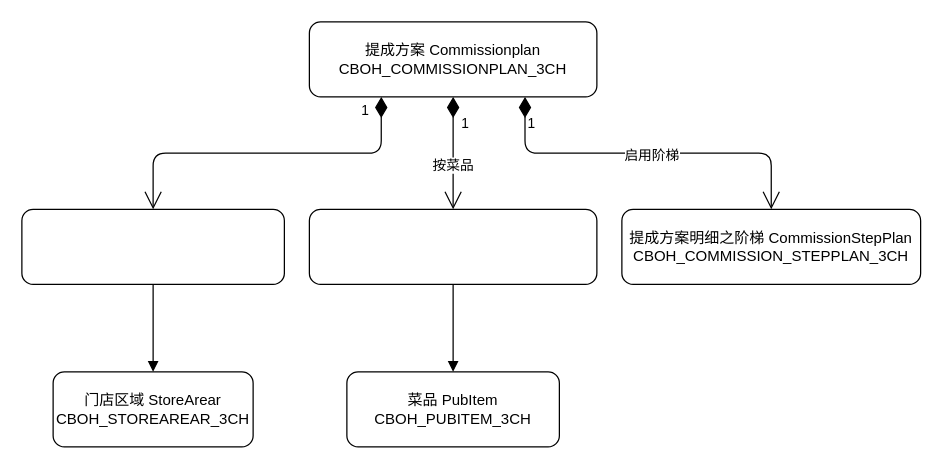
The diagram is 943 pixels wide and 469 high, and some of its shapes have lost their labels. Here are the shapes that lost their labels. From the top down, the centre of each, then its label:
At pixel 152 246: "提成方案适用门店 Commissionstore CBOH_COMMISSIONSTORE_3CH".
At pixel 452 246: "提成方案明细之菜品 Commissionitmcm CBOH_COMMISSIONITMCM_3CH".
